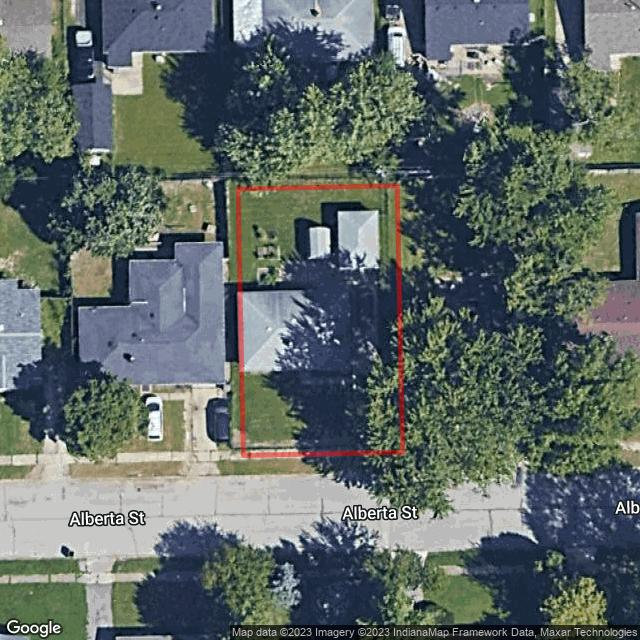Extra Lawn: (242, 456, 362, 476)
Extra Sidewalk: (241, 448, 370, 458)
House: (242, 290, 357, 373)
Other: (338, 211, 382, 271), (254, 224, 281, 262), (309, 226, 331, 258), (258, 265, 278, 283)
Sidewalk: (299, 374, 366, 384)
